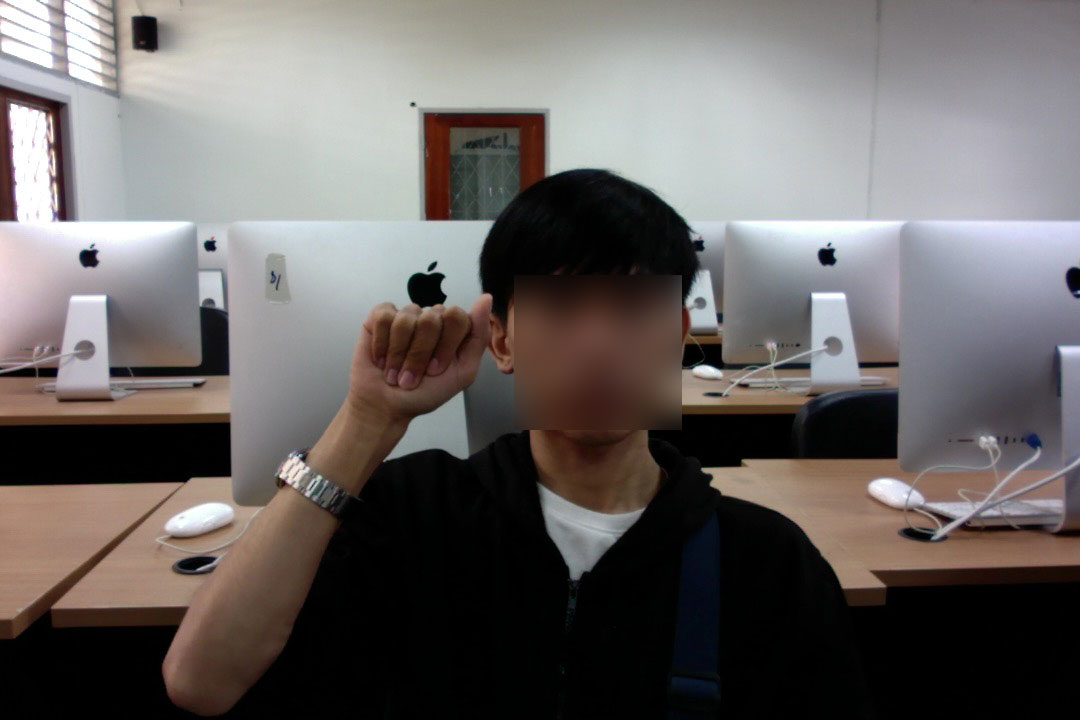or: (328, 285, 507, 432)
